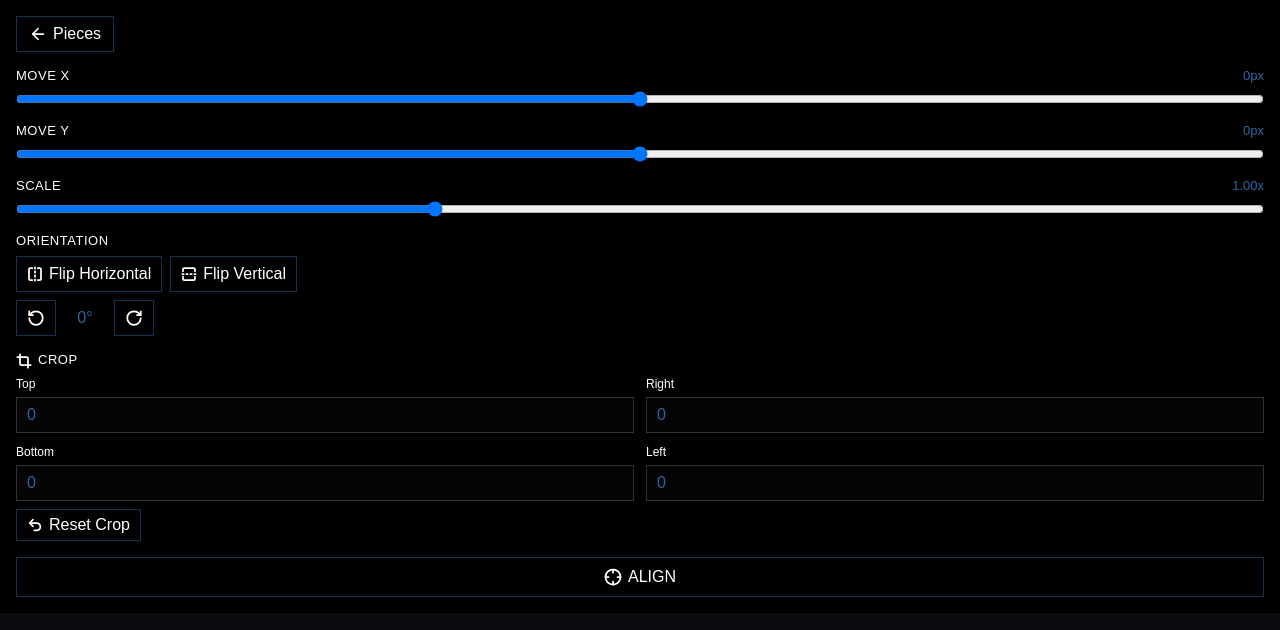
Test: CameraControlsPanel › uses a conservative pre-metadata crop cap instead of allowing arbitrary input
Replace the text in the number field named "Crop Top" with "999999" at (325, 415), box x1=16 y1=397 x2=634 y2=433
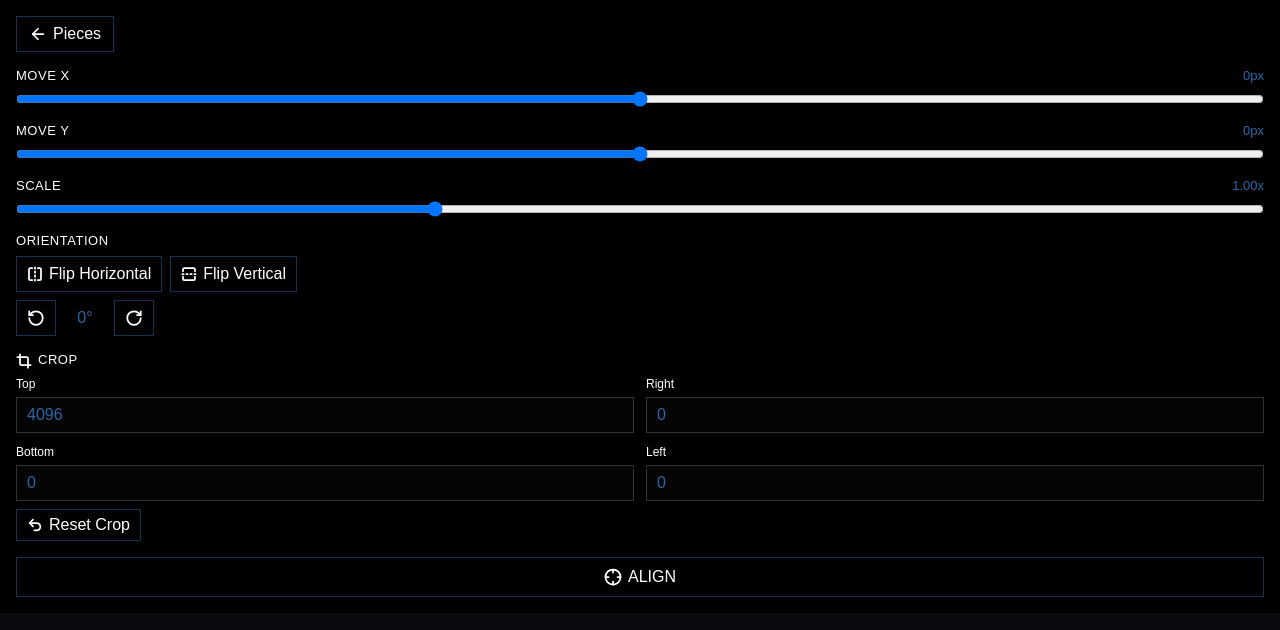
Expected: the number field named "Crop Top" holds "4096", x1=16 y1=397 x2=634 y2=433
